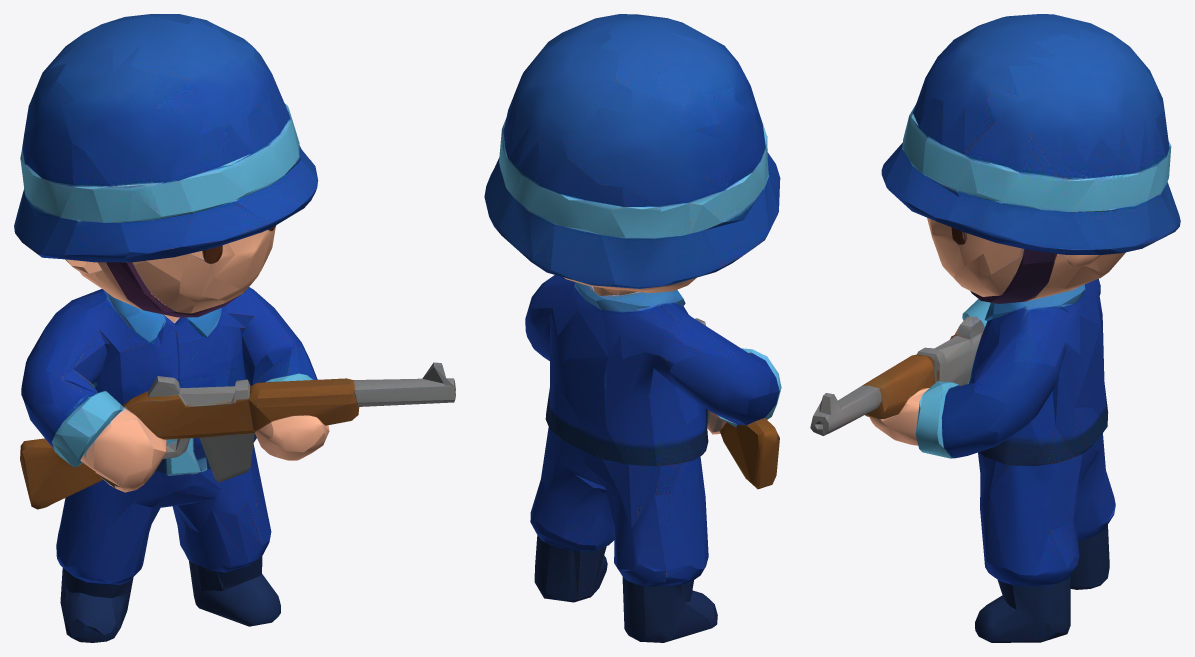
Rendered from glb-rifleman.glb.
The picture shows the model from 3 angles, left to right: view 1: azimuth 30°, elevation 25°; view 2: azimuth 150°, elevation 25°; view 3: azimuth 270°, elevation 25°; orthographic projection. The views are drawn at different scales.
Bounding box in the file's own units: 1.11 × 1.9 × 1.12.
1 material, 1 textured.
